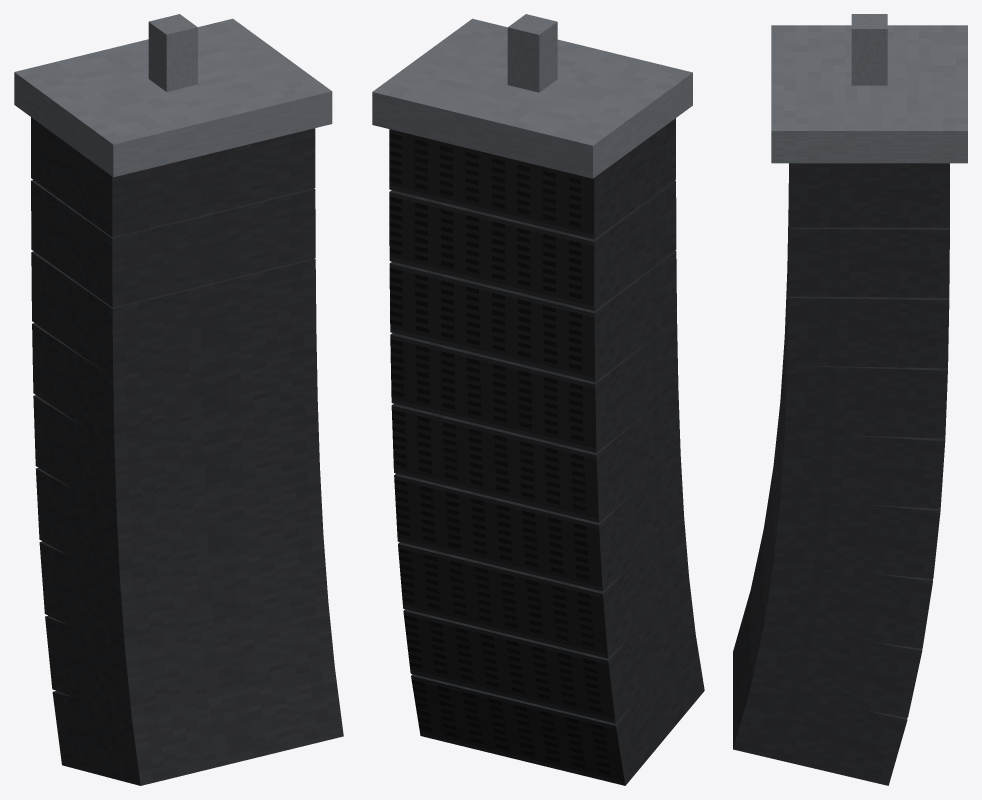
File: line_array_speaker.obj
3 views of the same model, side by side, from view 1: azimuth 30°, elevation 25°; view 2: azimuth 150°, elevation 25°; view 3: azimuth 270°, elevation 25° (orthographic).
Parts seen in each view (by area): view 1: line_array_speaker; view 2: line_array_speaker; view 3: line_array_speaker.
Part boxes in pixels (x1,y1,x2,y2): line_array_speaker: [14, 14, 343, 785]; line_array_speaker: [372, 14, 704, 785]; line_array_speaker: [733, 14, 967, 785].
Size of the model in its own units: 0.875 by 2.76 by 0.8218.
